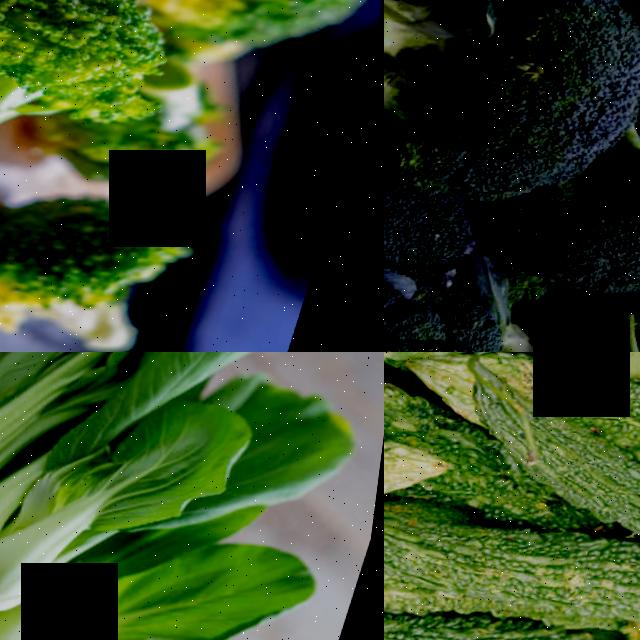bitter gourd: (384, 483, 640, 640), (384, 573, 575, 640), (517, 435, 613, 488), (597, 475, 640, 574), (384, 430, 429, 510)
bok choy: (0, 542, 273, 640), (0, 448, 143, 626), (0, 352, 146, 472)
broccoli: (384, 0, 640, 203), (0, 177, 239, 352), (0, 0, 179, 188), (509, 162, 640, 340), (384, 254, 527, 352), (384, 161, 494, 286)
